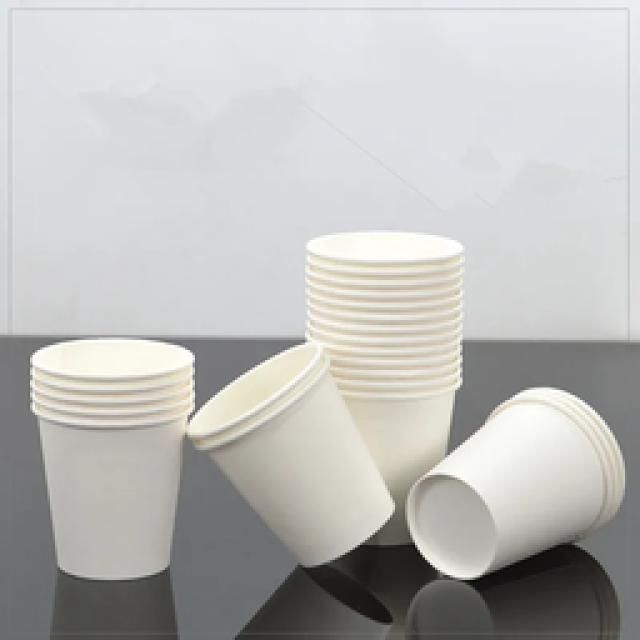paper_cups: (187, 341, 396, 566), (408, 388, 630, 586), (306, 235, 464, 507), (32, 334, 196, 577), (401, 548, 621, 638)
